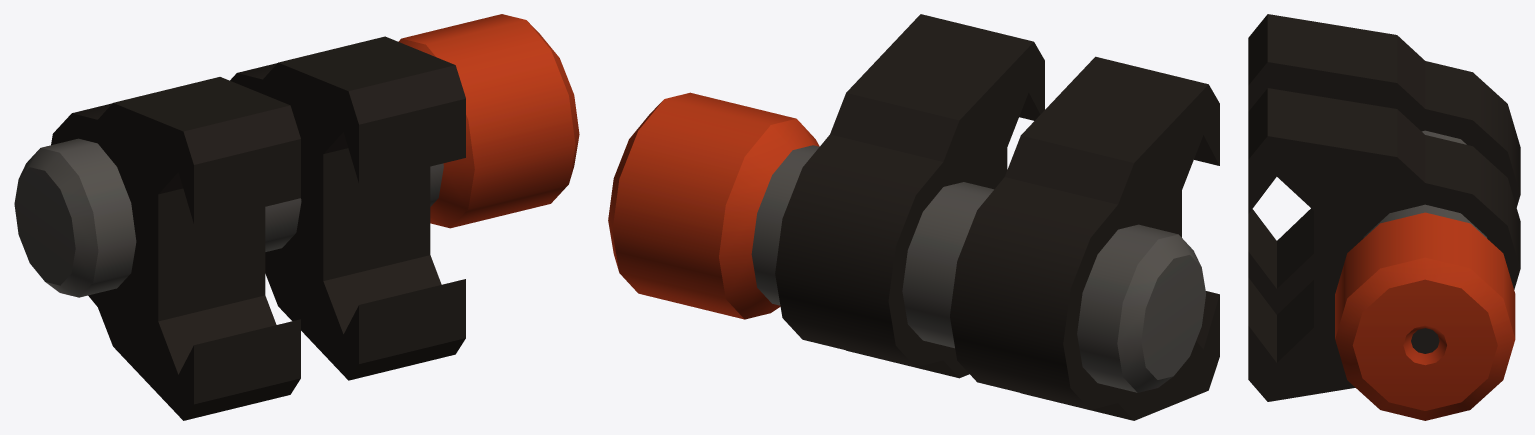
File: Tactical_LaserAiming.fbx
The picture shows the model from 3 angles, left to right: view 1: azimuth 30°, elevation 25°; view 2: azimuth 150°, elevation 25°; view 3: azimuth 270°, elevation 25°; orthographic projection. The views are drawn at different scales.
Visible parts, largest first — view 1: Tactical_LaserAiming; view 2: Tactical_LaserAiming; view 3: Tactical_LaserAiming.
Part boxes in pixels (<box>): Tactical_LaserAiming: <box>14,14,579,420</box>; Tactical_LaserAiming: <box>608,14,1219,420</box>; Tactical_LaserAiming: <box>1248,14,1520,420</box>.
Size of the model in its own units: 6.64 by 3.71 by 3.44.
